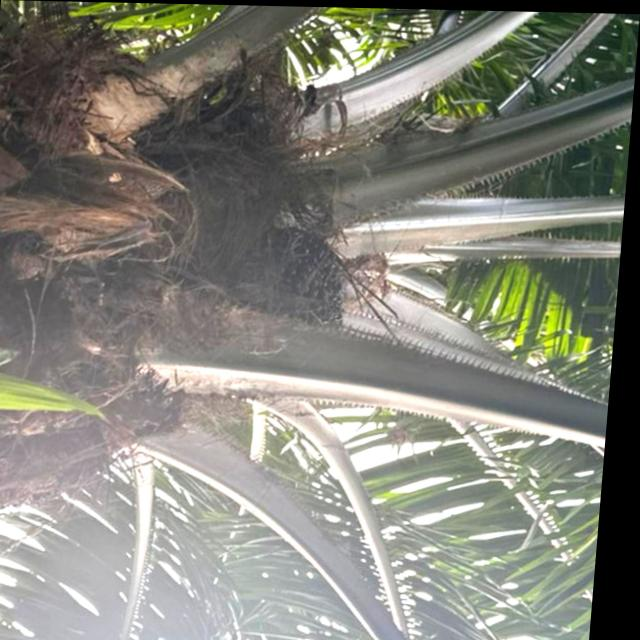unripe: (247, 227, 357, 320)
